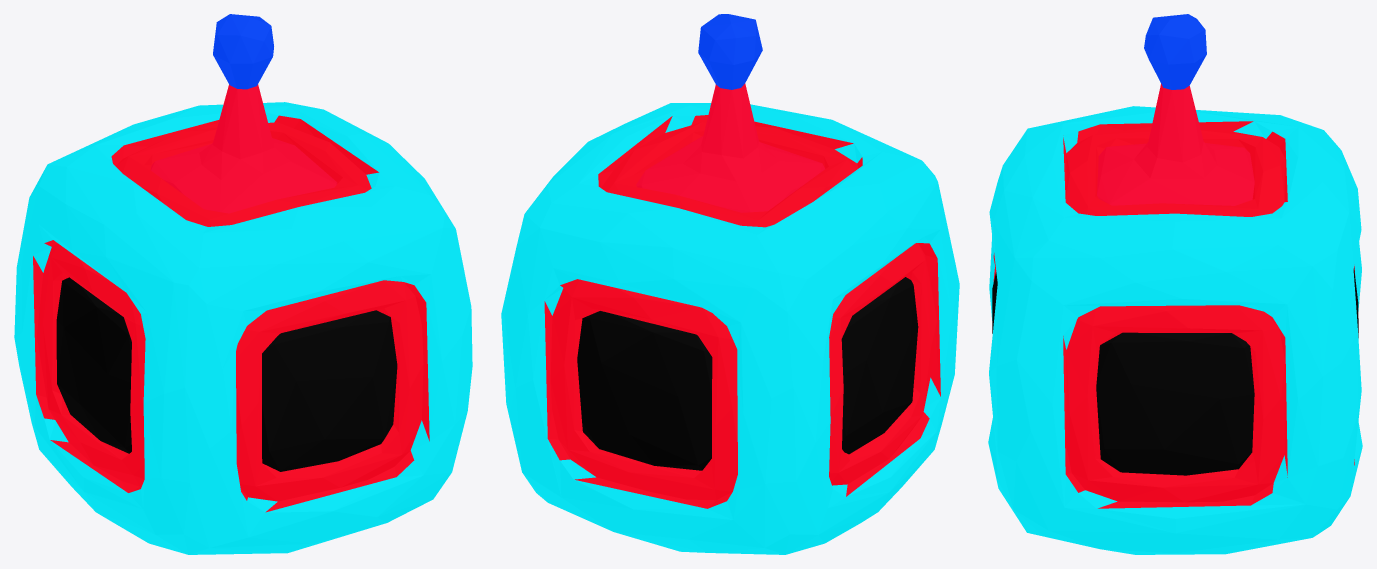
Rendered from map_enemies_trap.glb.
3 renders of one model, left to right at view 1: azimuth 30°, elevation 25°; view 2: azimuth 150°, elevation 25°; view 3: azimuth 270°, elevation 25°, orthographic.
Parts seen in each view (by area): view 1: map_enemys_trap; view 2: map_enemys_trap; view 3: map_enemys_trap.
Part boxes in pixels (x1,y1,x2,y2): map_enemys_trap: (14,14,472,554); map_enemys_trap: (501,14,959,554); map_enemys_trap: (988,14,1362,554).
Size of the model in its own units: 1.64 by 2.34 by 1.65.
